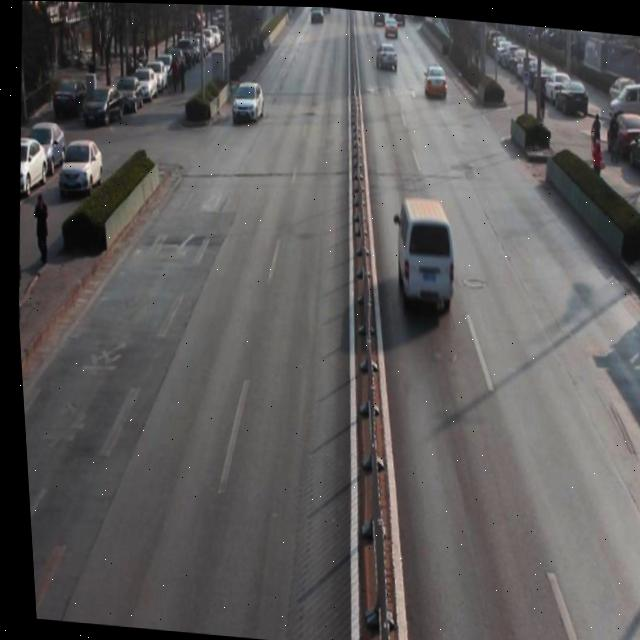car: (230, 75, 266, 125), (422, 62, 450, 103), (373, 39, 400, 75)
truck: (385, 198, 459, 321)
